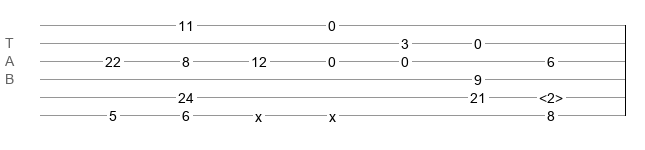0: (328, 18, 336, 28), (328, 54, 336, 64), (401, 54, 409, 64), (474, 36, 482, 46)
11: (178, 18, 194, 28)
12: (251, 54, 267, 64)
21: (470, 90, 486, 100)
22: (105, 54, 121, 64)
24: (178, 90, 194, 100)
3: (401, 36, 409, 46)
5: (109, 108, 117, 118)
6: (182, 108, 190, 118), (547, 54, 555, 64)
8: (182, 54, 190, 64), (547, 108, 555, 118)
9: (474, 72, 482, 82)
harmonic: (539, 90, 563, 100)
x: (255, 109, 262, 117), (329, 109, 336, 117)
